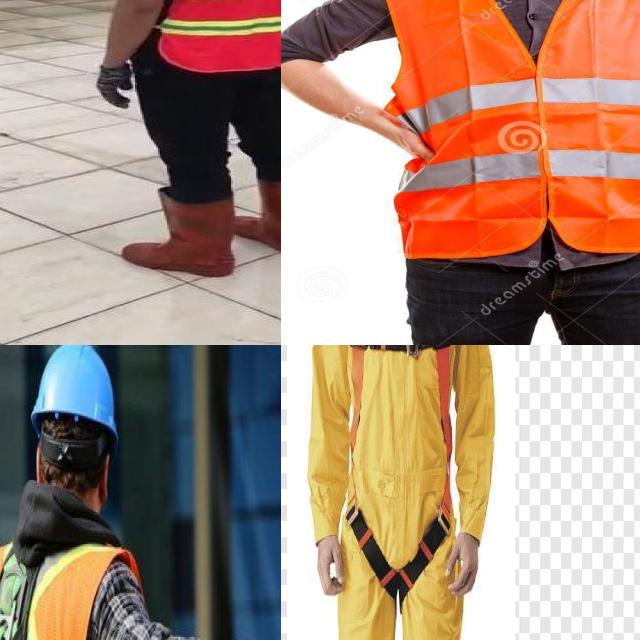Harness: (346, 345, 451, 602)
No_Ear-Protection: (99, 446, 112, 501)
hand_glove: (96, 57, 138, 126)
hand_noglove: (379, 91, 437, 168)
head_helmet: (27, 345, 122, 446)
person: (335, 0, 640, 345), (92, 0, 281, 276), (0, 345, 171, 640)
vest: (369, 0, 640, 243), (0, 535, 160, 640)
